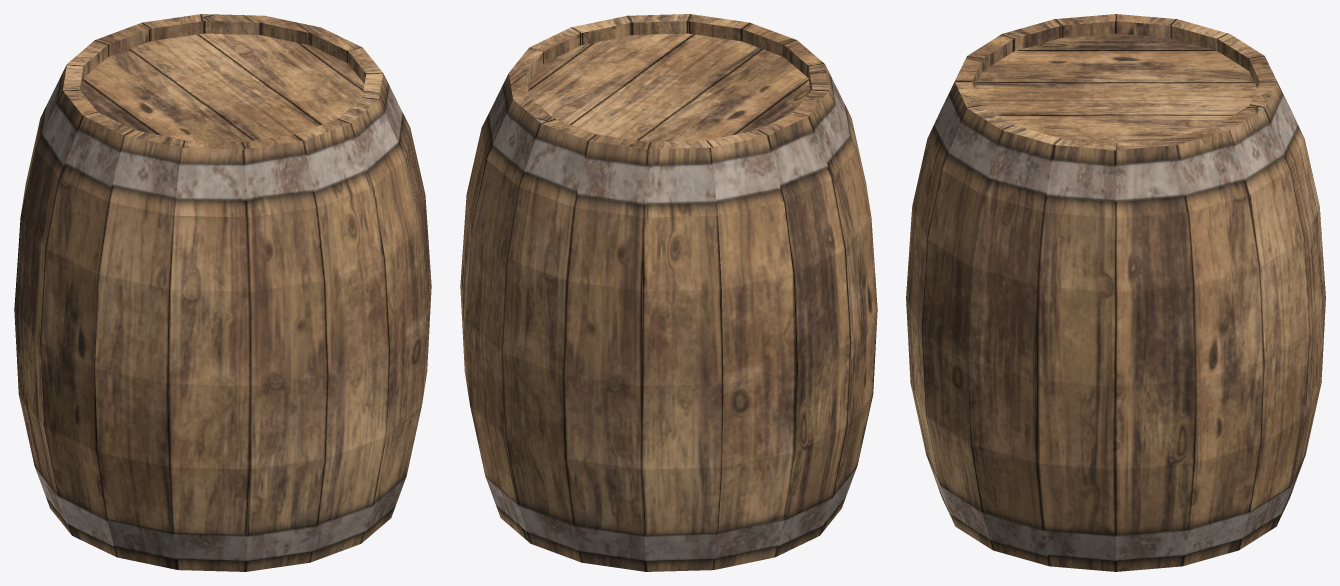
The model's file is barrel.glb.
3 views of the same model, side by side, from view 1: azimuth 30°, elevation 25°; view 2: azimuth 150°, elevation 25°; view 3: azimuth 270°, elevation 25° (orthographic).
Parts seen in each view (by area): view 1: barrel; view 2: barrel; view 3: barrel.
Part boxes in pixels (x1,y1,x2,y2): barrel: (14,14,431,571); barrel: (460,14,877,571); barrel: (906,14,1325,571).
Size of the model in its own units: 0.9362 by 1.02 by 0.9362.
1 material, 1 textured.
